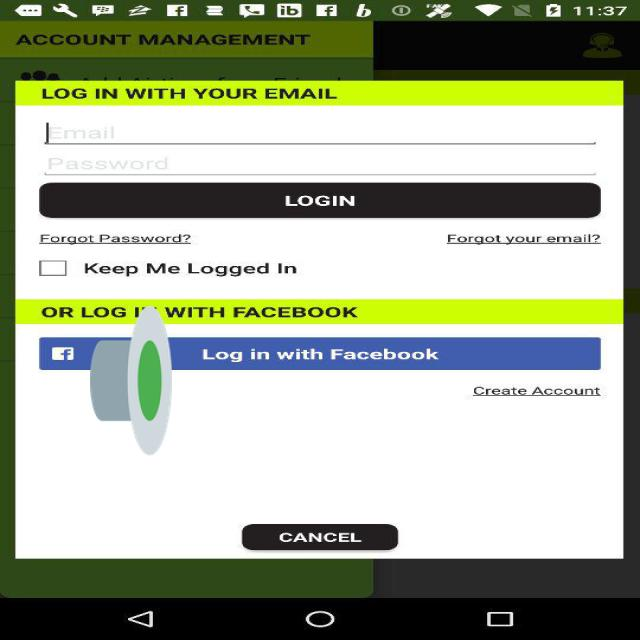social proof: (90, 242, 172, 518)
